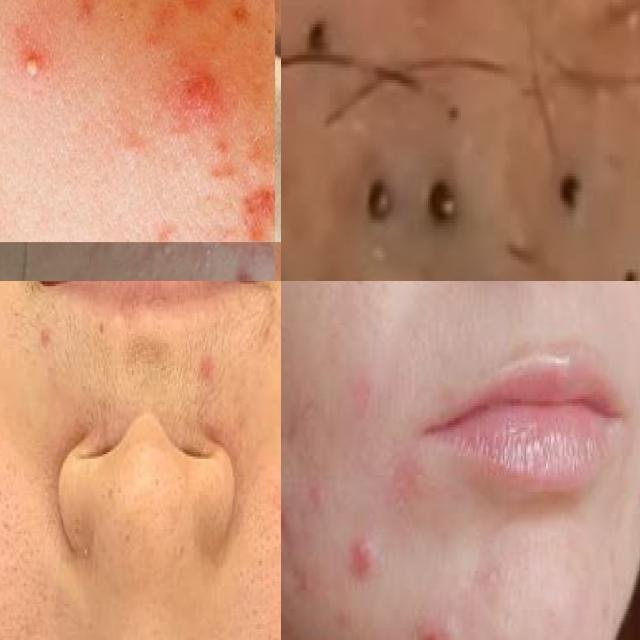acne_scars: (214, 242, 275, 266)
comedone: (410, 163, 468, 241), (352, 168, 404, 245), (552, 163, 592, 232), (300, 8, 330, 54), (139, 242, 178, 269), (619, 254, 640, 281), (261, 8, 275, 46), (111, 235, 136, 242)
papule: (153, 54, 275, 138), (224, 169, 275, 242), (160, 0, 223, 28), (226, 252, 264, 281)
pustule: (13, 42, 58, 84)
